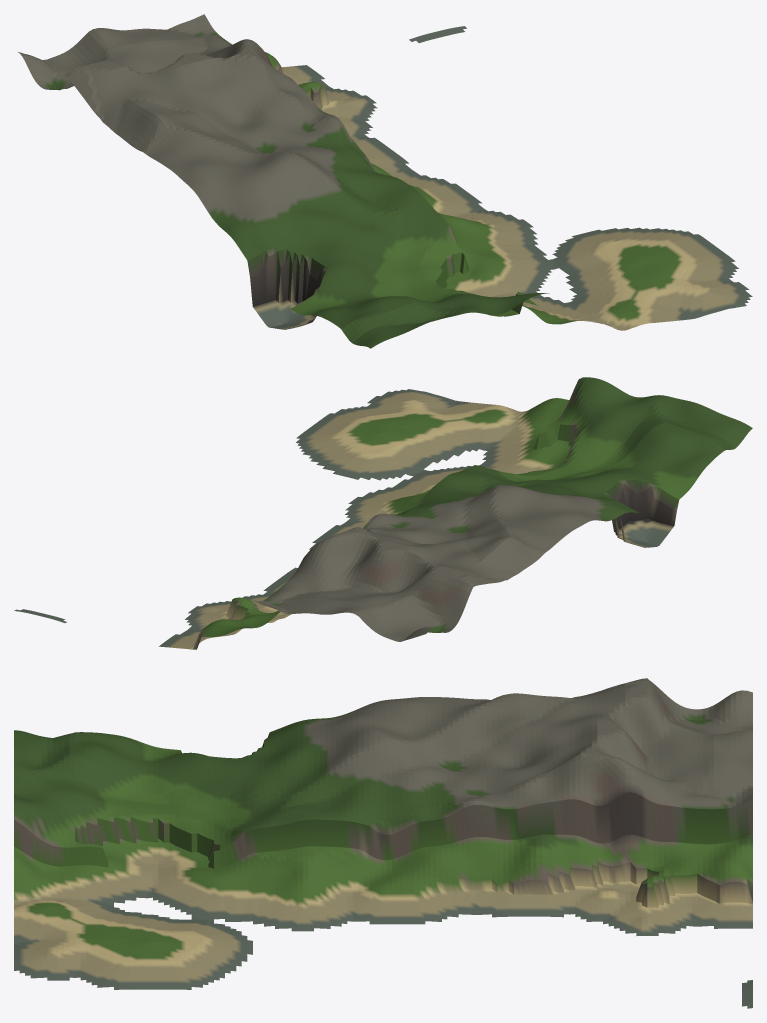
File: coast_tile_x1z0.glb
3 views of the same model, one above another, from view 1: azimuth 30°, elevation 25°; view 2: azimuth 150°, elevation 25°; view 3: azimuth 270°, elevation 25° (orthographic). The views are drawn at different scales.
Visible parts, largest first — view 1: geometry_0; view 2: geometry_0; view 3: geometry_0.
Part boxes in pixels (x1,y1,x2,y2): geometry_0: [18, 14, 752, 348]; geometry_0: [14, 377, 752, 649]; geometry_0: [14, 678, 752, 1008].
Bounding box in the file's own units: 582 × 134 × 798.
